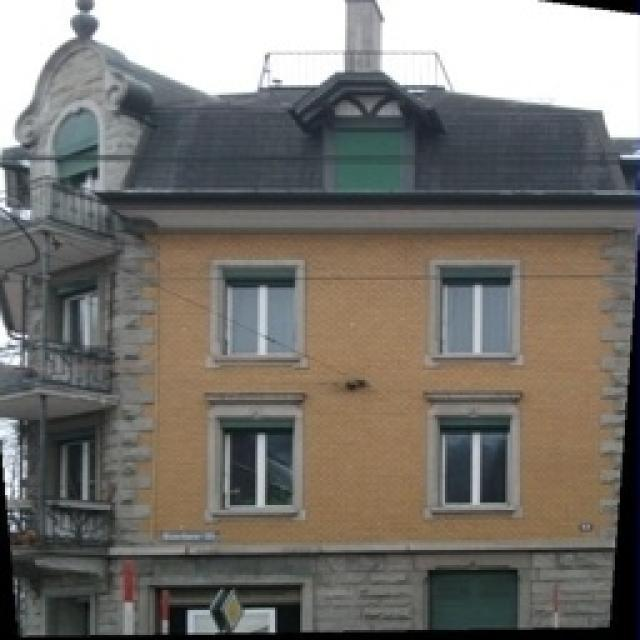Window: (220, 428, 295, 508), (225, 280, 293, 355), (442, 430, 510, 505), (442, 280, 512, 352), (60, 442, 95, 498), (62, 298, 100, 348)
